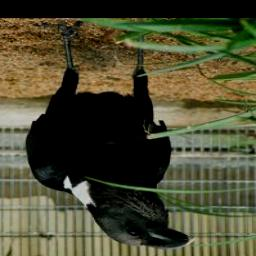Crow: (26, 20, 199, 250)
